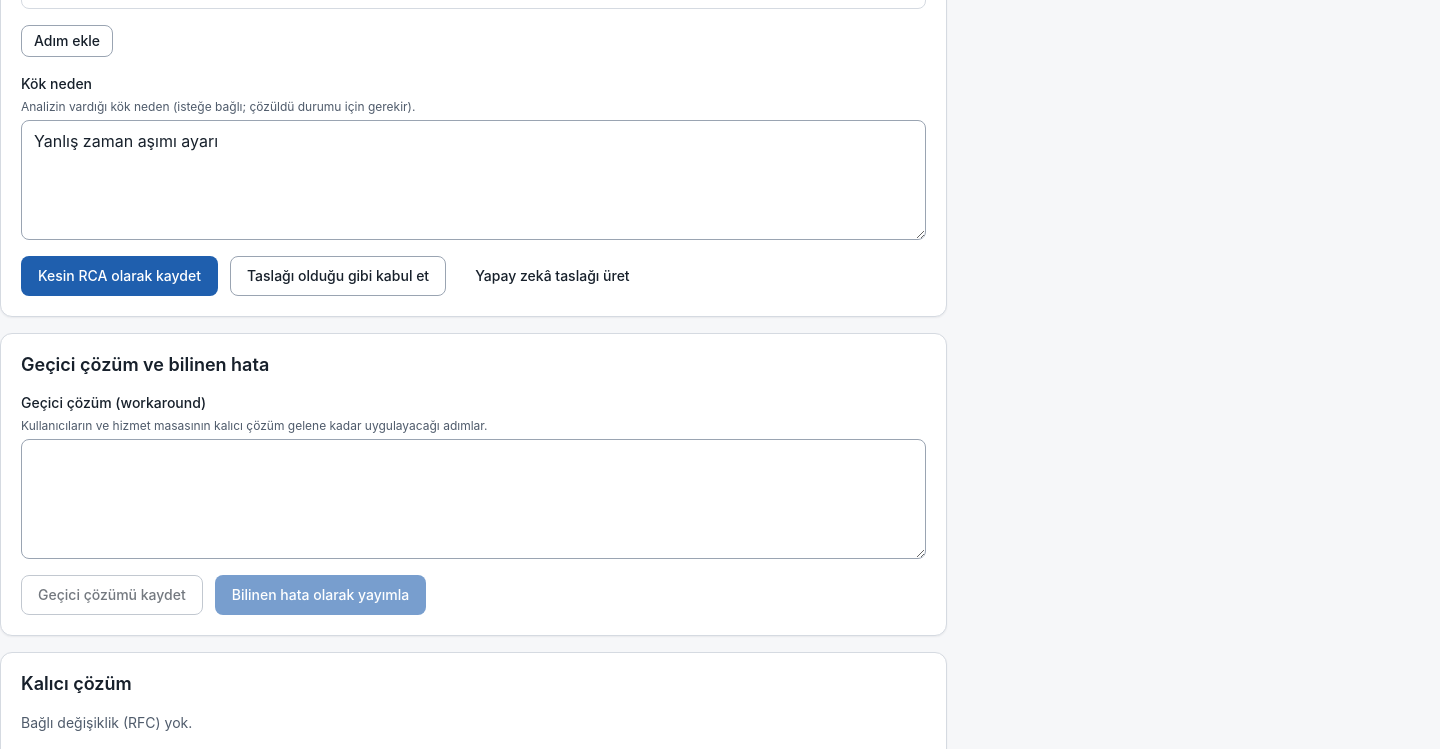
ProblemDetailPage (/problemler/:id) › geçici çözüm If-Match ile kaydedilir, sonra bilinen hata olarak yayımlanır
(page scrolled)
Expected: the button "Bilinen hata olarak yayımla" is disabled, [215,575,426,615]
In the text box labelled "Geçici çözüm (workaround)": (473, 499) [21,439,926,559], type "VPN istemcisini yeniden başlatın."
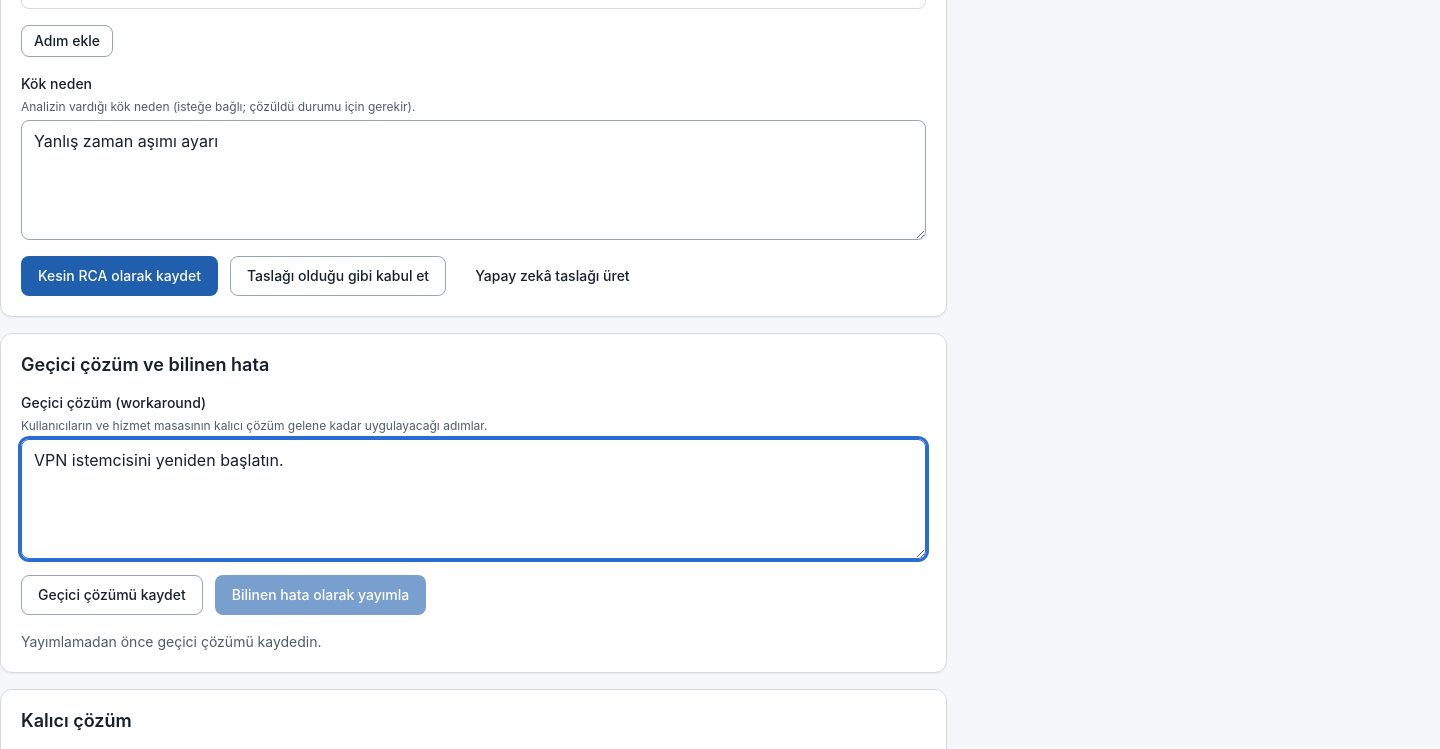
Expected: the text "Yayımlamadan önce geçici çözümü kaydedin." is shown, [21,633,322,650]
Click the button "Geçici çözümü kaydet": (112, 595) [21,575,203,615]
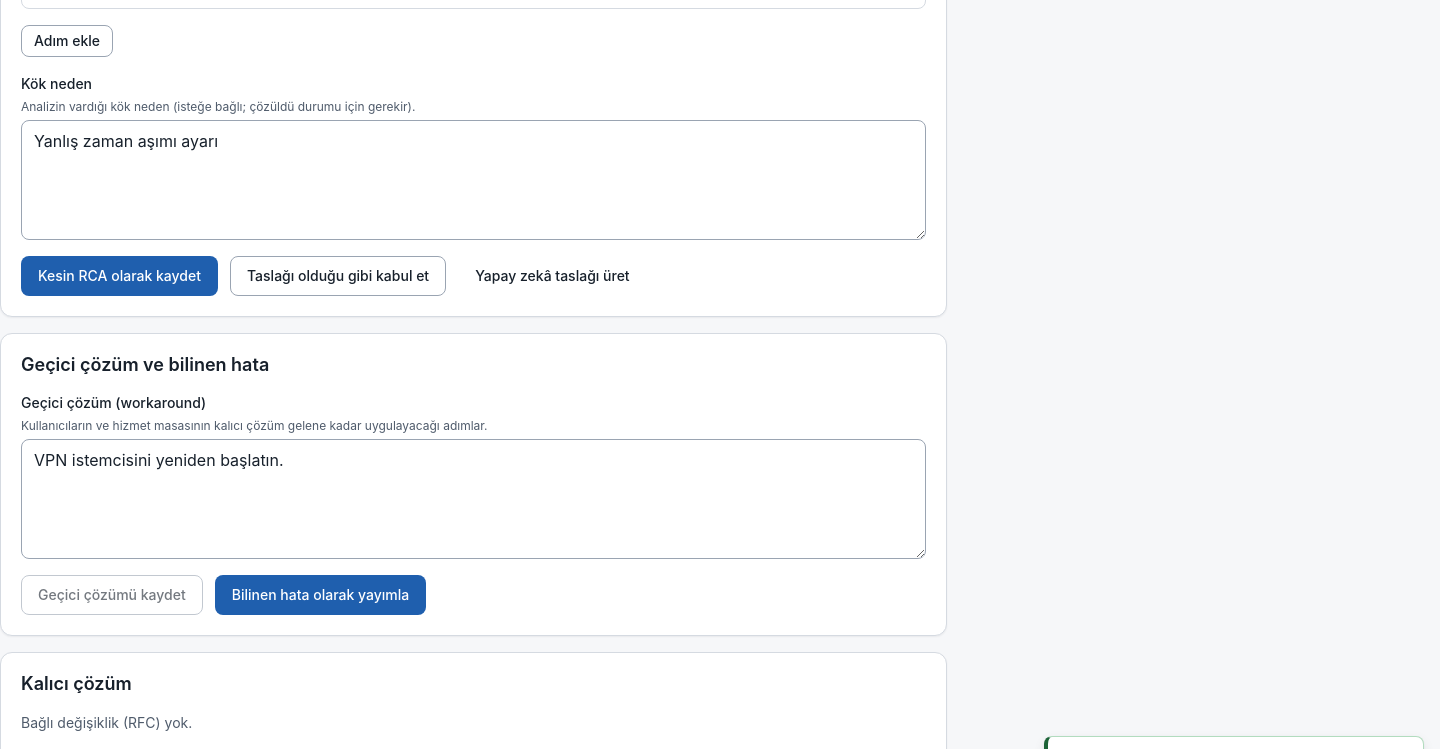
Click the button "Bilinen hata olarak yayımla": (321, 595) [215,575,426,615]
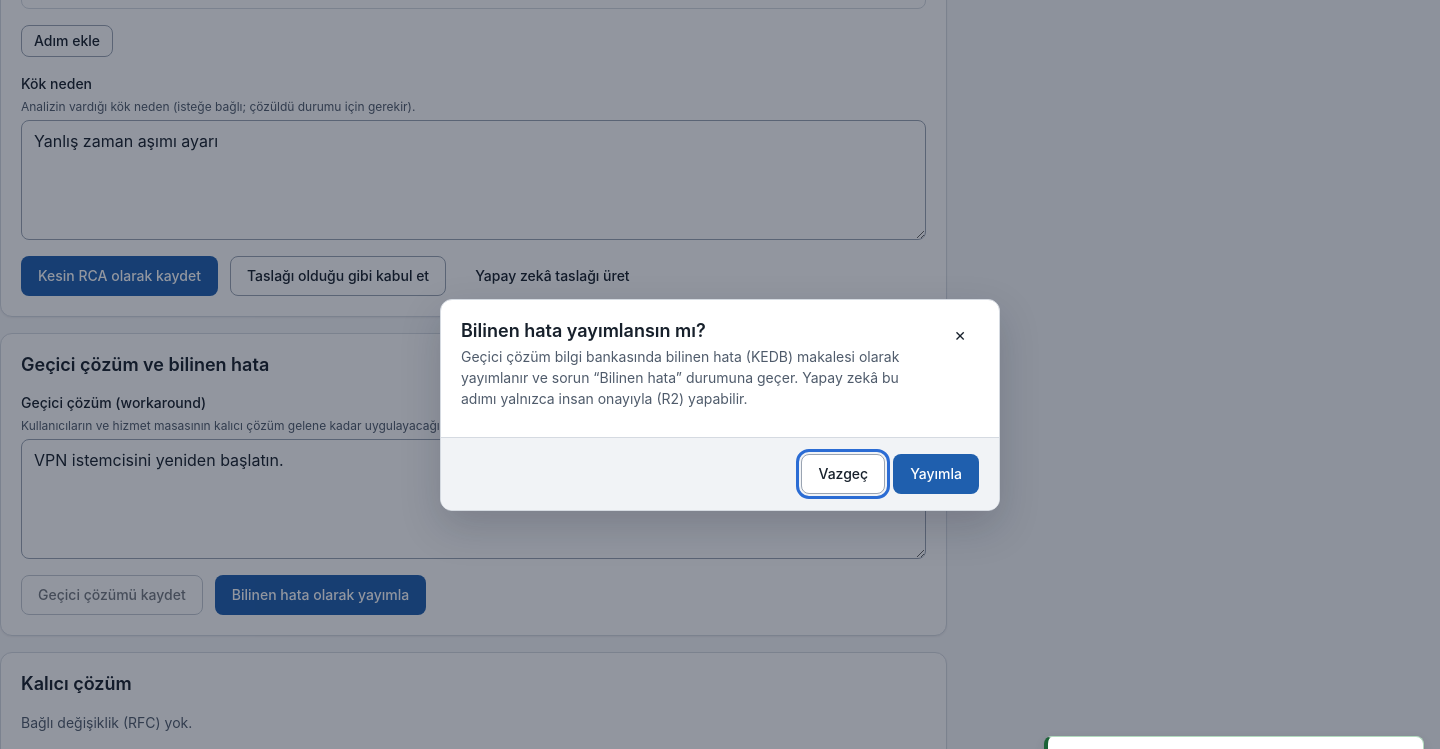
Expected: the dialog shows "insan onayıyla (R2)", [461,348,899,407]
Click the button "Yayımla": (936, 474) [893,454,979,494]
(page scrolled)
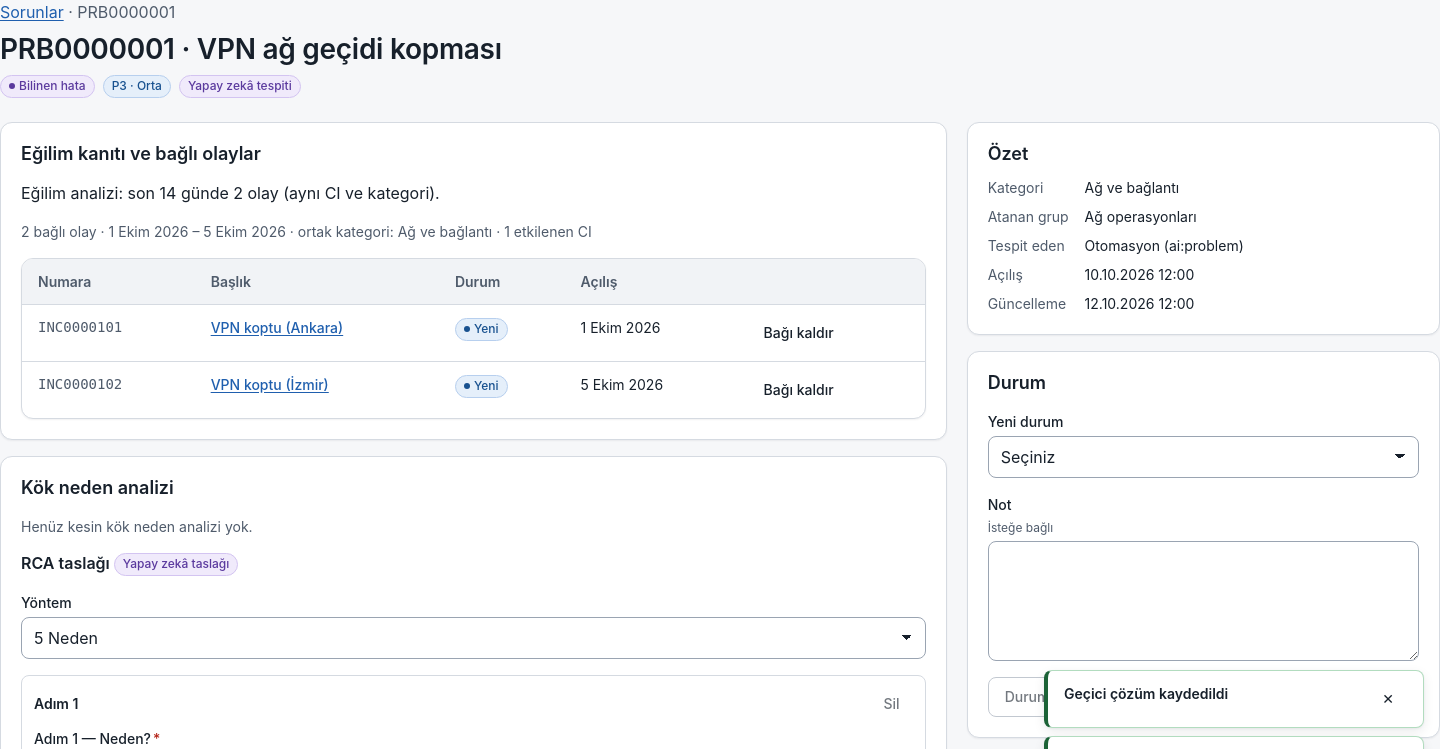
Expected: the text "Bilinen hata" is shown, [0,75,95,98]
